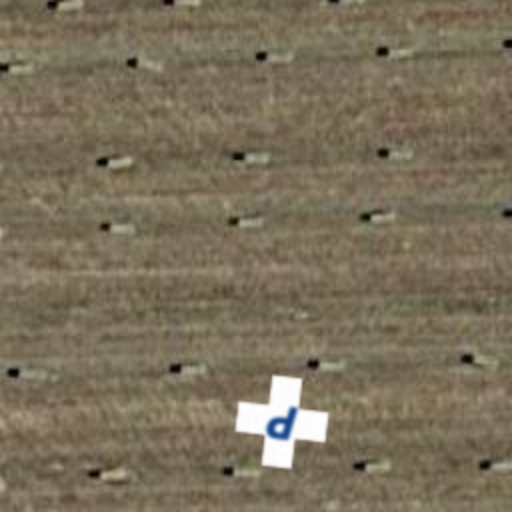cross: (230, 370, 334, 474)
